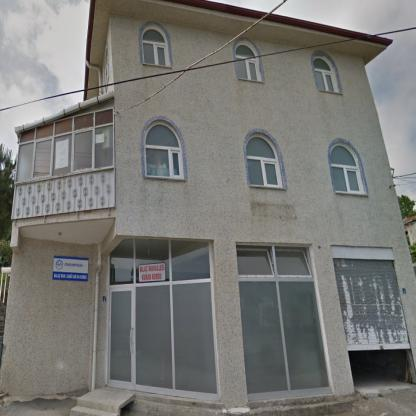door: (107, 289, 133, 389)
window: (236, 248, 331, 400), (134, 282, 218, 400), (16, 98, 114, 182), (109, 240, 211, 290), (146, 124, 183, 178), (247, 136, 282, 188), (331, 146, 362, 193), (312, 56, 339, 93), (142, 29, 167, 67), (235, 44, 260, 81)
